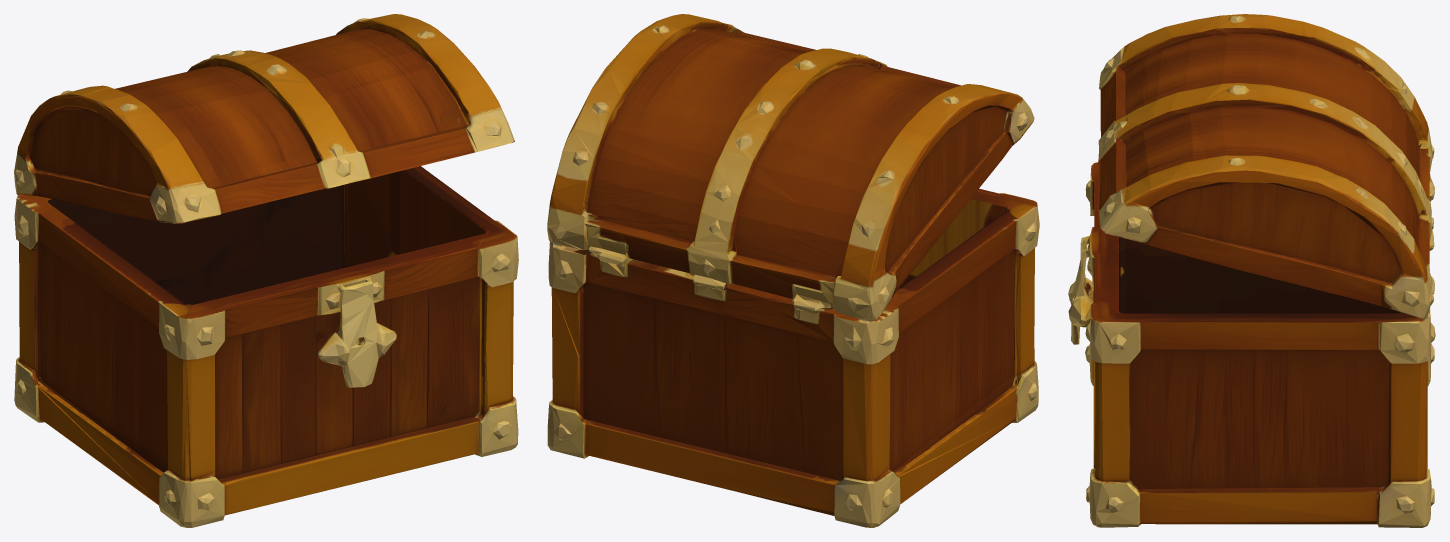
The model's file is chest.glb.
3 renders of one model, left to right at view 1: azimuth 30°, elevation 25°; view 2: azimuth 150°, elevation 25°; view 3: azimuth 270°, elevation 25°, orthographic. The views are drawn at different scales.
Parts seen in each view (by area): view 1: textured_mesh.obj; view 2: textured_mesh.obj; view 3: textured_mesh.obj.
Part boxes in pixels (left/top/right/bottom): textured_mesh.obj: left=14, top=14, right=518, bottom=527; textured_mesh.obj: left=547, top=14, right=1039, bottom=527; textured_mesh.obj: left=1068, top=14, right=1435, bottom=527.
Size of the model in its own units: 1.96 by 1.99 by 1.82.
Materials: 1 (1 with a texture image).
